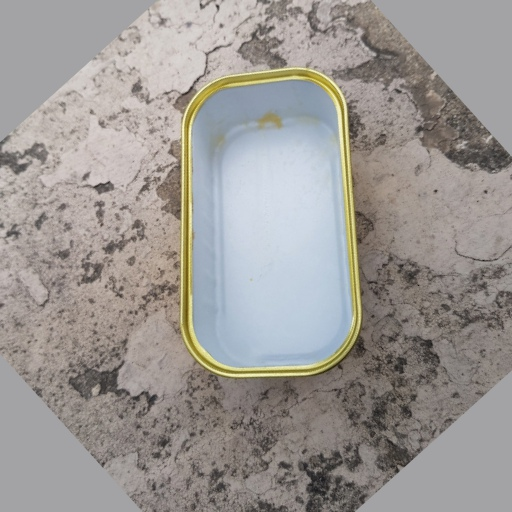Metal_2: (176, 70, 369, 380)
